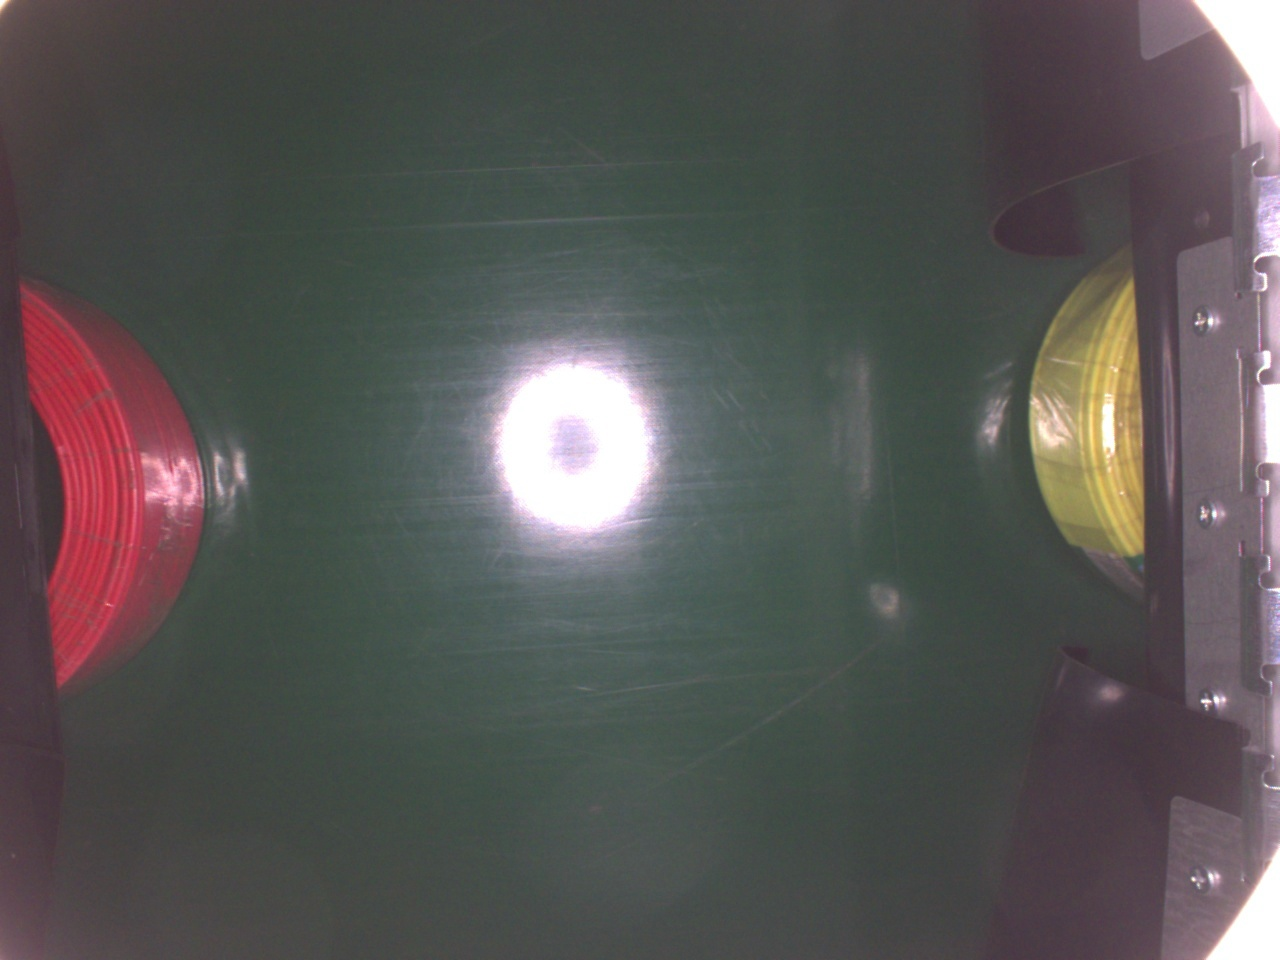red: (19, 270, 207, 696)
